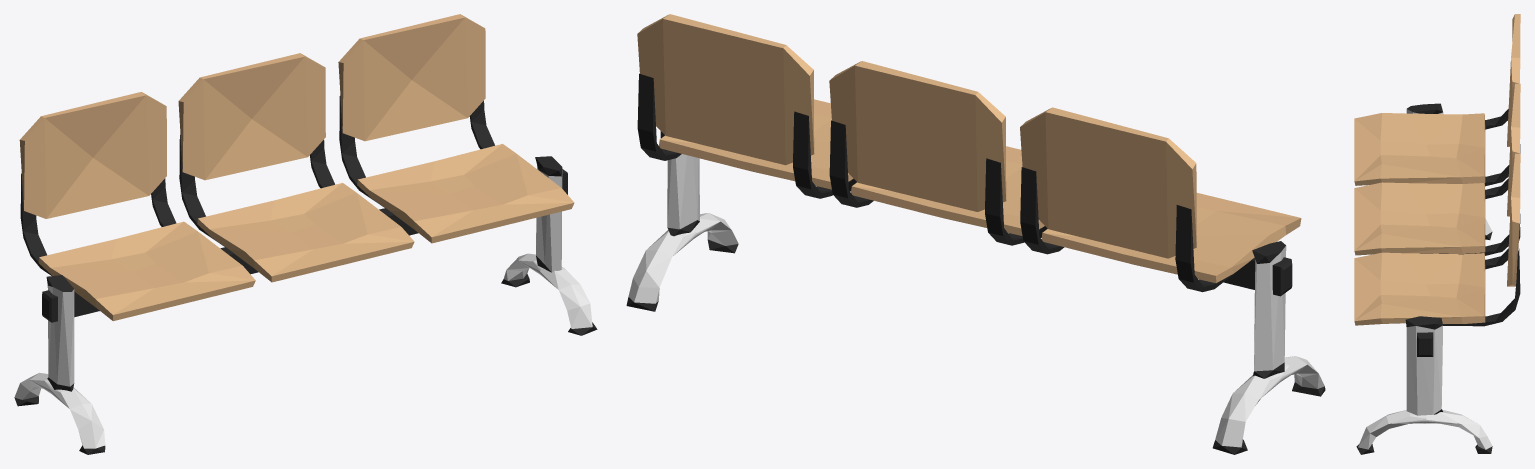
The model's file is triple_chaise.fbx.
3 views of the same model, side by side, from view 1: azimuth 30°, elevation 25°; view 2: azimuth 150°, elevation 25°; view 3: azimuth 270°, elevation 25° (orthographic). The views are drawn at different scales.
Parts seen in each view (by area): view 1: bancs 3 places; view 2: bancs 3 places; view 3: bancs 3 places.
Boxes of the visible parts, left/top/right/bottom form: bancs 3 places: left=14, top=14, right=597, bottom=454; bancs 3 places: left=626, top=14, right=1325, bottom=454; bancs 3 places: left=1354, top=14, right=1520, bottom=454.
Bounding box in the file's own units: 172 × 83.03 × 52.91.
